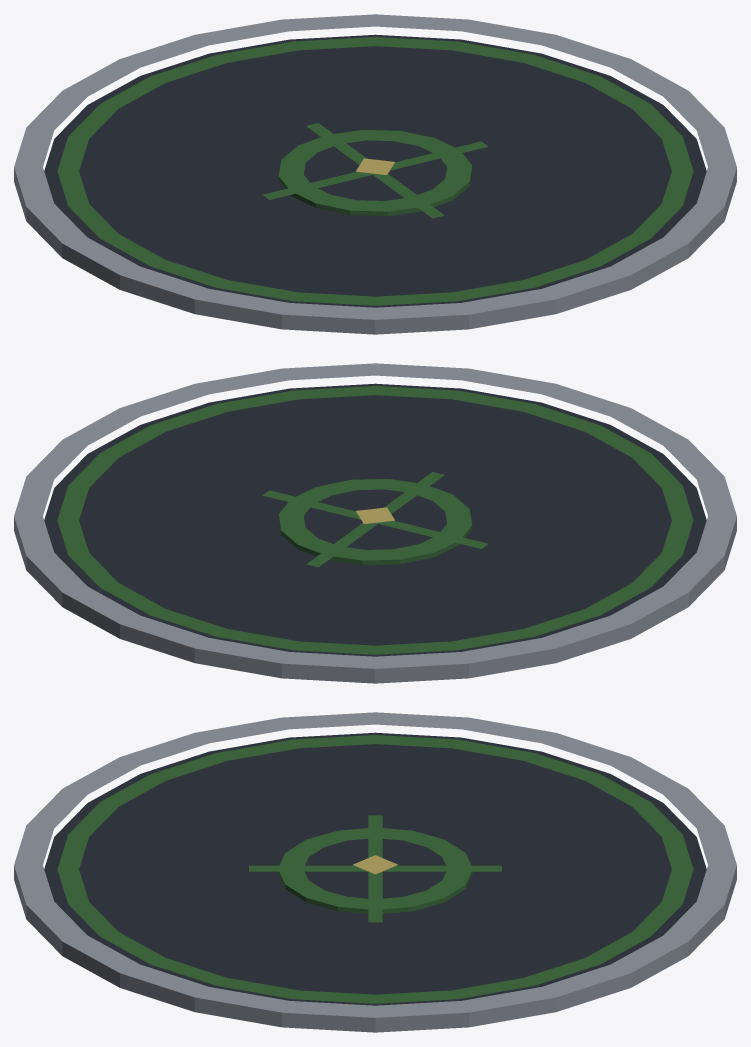
File: sniper_common_area.glb
3 renders of one model, top to bottom at view 1: azimuth 30°, elevation 25°; view 2: azimuth 150°, elevation 25°; view 3: azimuth 270°, elevation 25°, orthographic.
Parts seen in each view (by area): view 1: sniper_common_area; view 2: sniper_common_area; view 3: sniper_common_area.
Boxes of the visible parts, box(x1,y1,x2,y2) form: sniper_common_area: box(14, 14, 736, 334); sniper_common_area: box(14, 363, 736, 683); sniper_common_area: box(14, 712, 736, 1032).
Size of the model in its own units: 2 by 0.046 by 2.
1 material, 1 textured.
